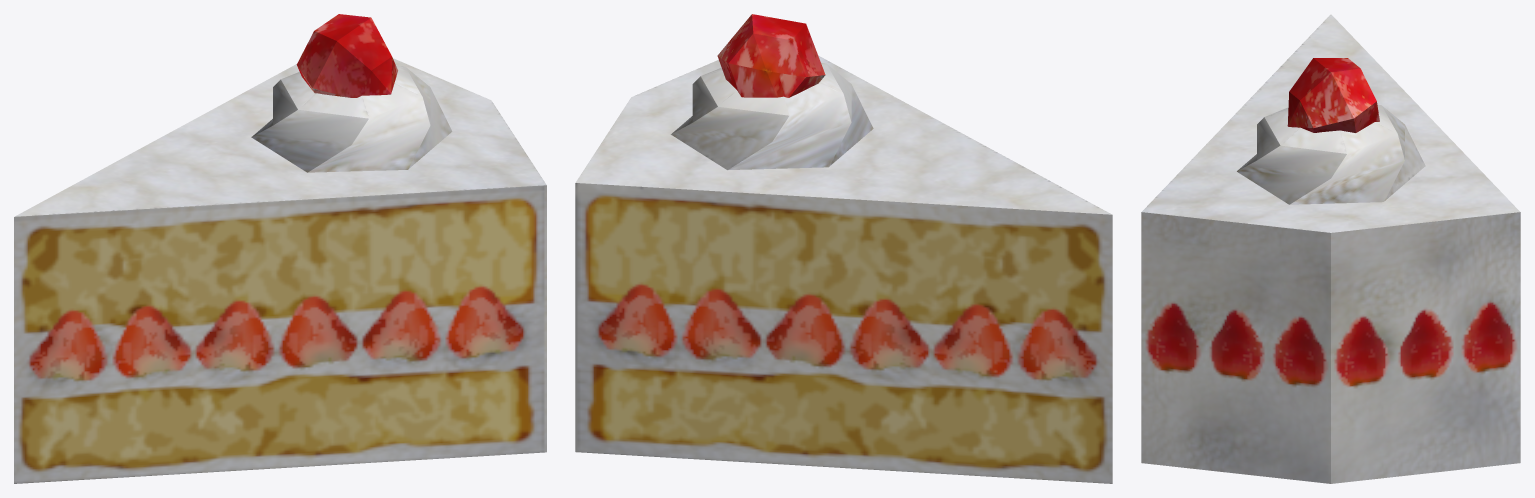
File: cake.fbx
The picture shows the model from 3 angles, left to right: view 1: azimuth 30°, elevation 25°; view 2: azimuth 150°, elevation 25°; view 3: azimuth 270°, elevation 25°; orthographic projection. The views are drawn at different scales.
Visible parts, largest first — view 1: pasted__pasted__pasted__pasted__pSphere2; view 2: pasted__pasted__pasted__pasted__pSphere2; view 3: pasted__pasted__pasted__pasted__pSphere2.
Part boxes in pixels (x1,y1,x2,y2): pasted__pasted__pasted__pasted__pSphere2: (14, 14, 546, 483); pasted__pasted__pasted__pasted__pSphere2: (575, 14, 1112, 483); pasted__pasted__pasted__pasted__pSphere2: (1141, 14, 1520, 483).
Size of the model in its own units: 1.27 by 0.9615 by 0.927.
